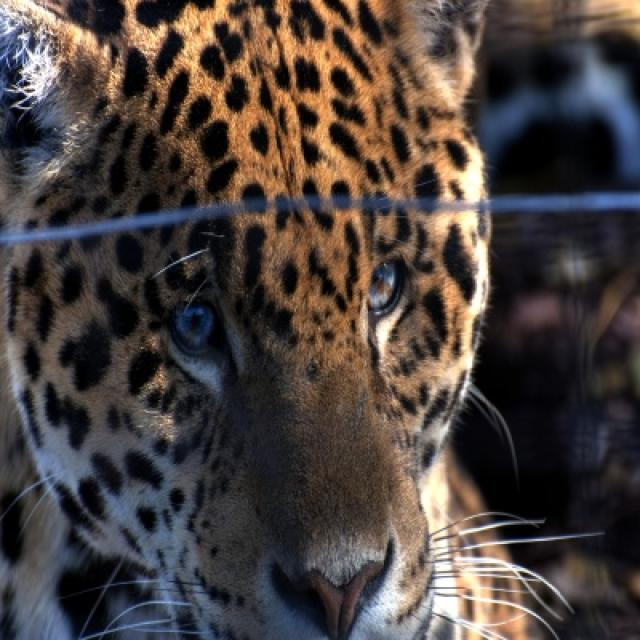Jaguar: (0, 0, 563, 638)
